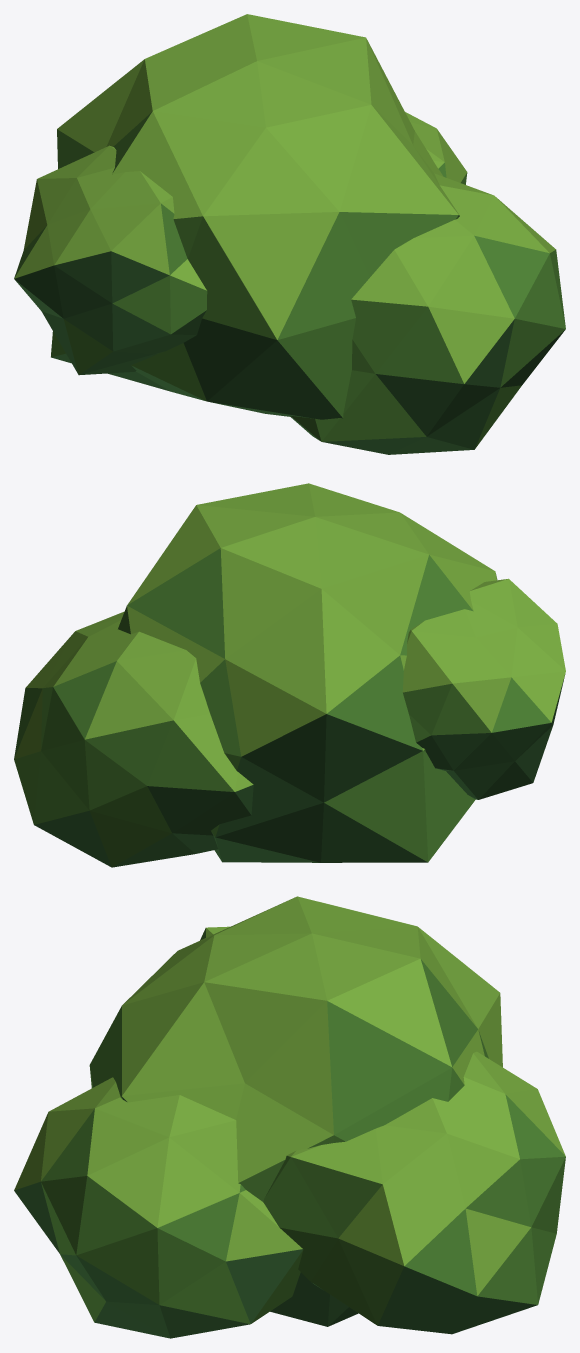
File: F06_RoundBushSmall.glb
3 renders of one model, top to bottom at view 1: azimuth 30°, elevation 25°; view 2: azimuth 150°, elevation 25°; view 3: azimuth 270°, elevation 25°, orthographic. The views are drawn at different scales.
Visible parts, largest first — view 1: F06_RoundBushSmall; view 2: F06_RoundBushSmall; view 3: F06_RoundBushSmall.
Boxes of the visible parts, bbox=[...] form: F06_RoundBushSmall: bbox=[14, 14, 565, 454]; F06_RoundBushSmall: bbox=[14, 483, 565, 867]; F06_RoundBushSmall: bbox=[14, 896, 565, 1338].
Size of the model in its own units: 1.22 by 0.7872 by 1.16.
